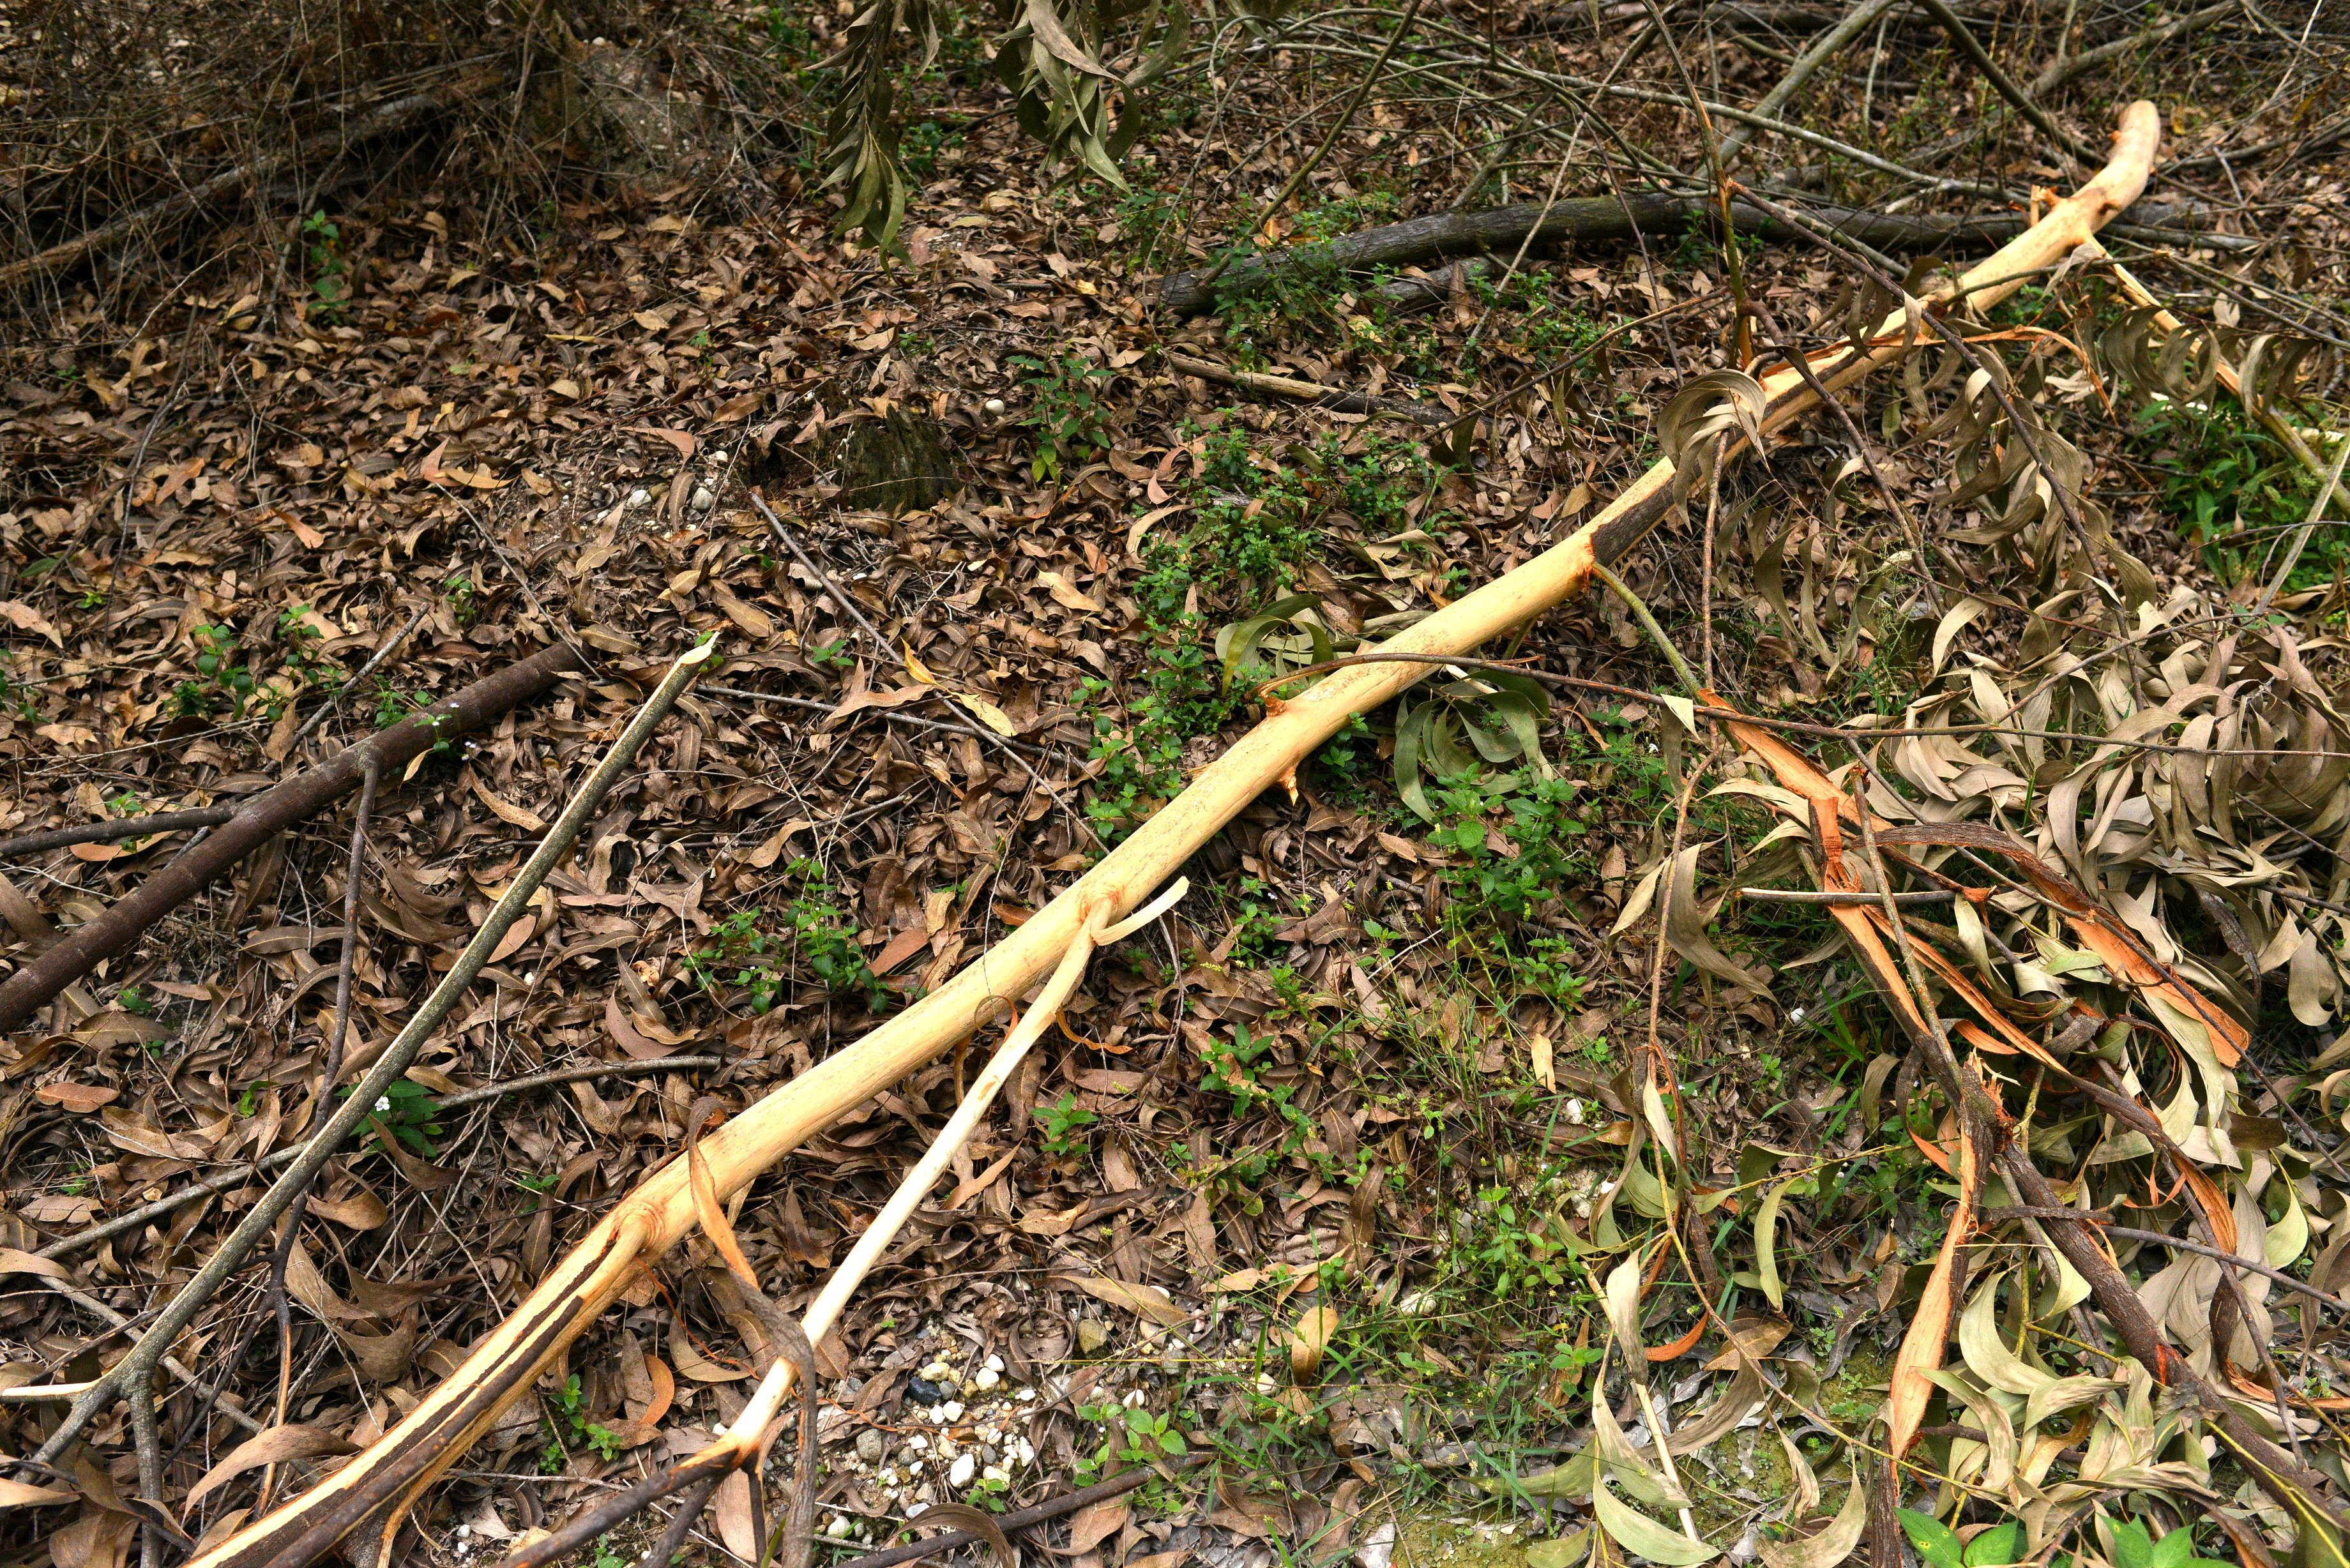Mammals Attack: (196, 93, 2158, 1568)
